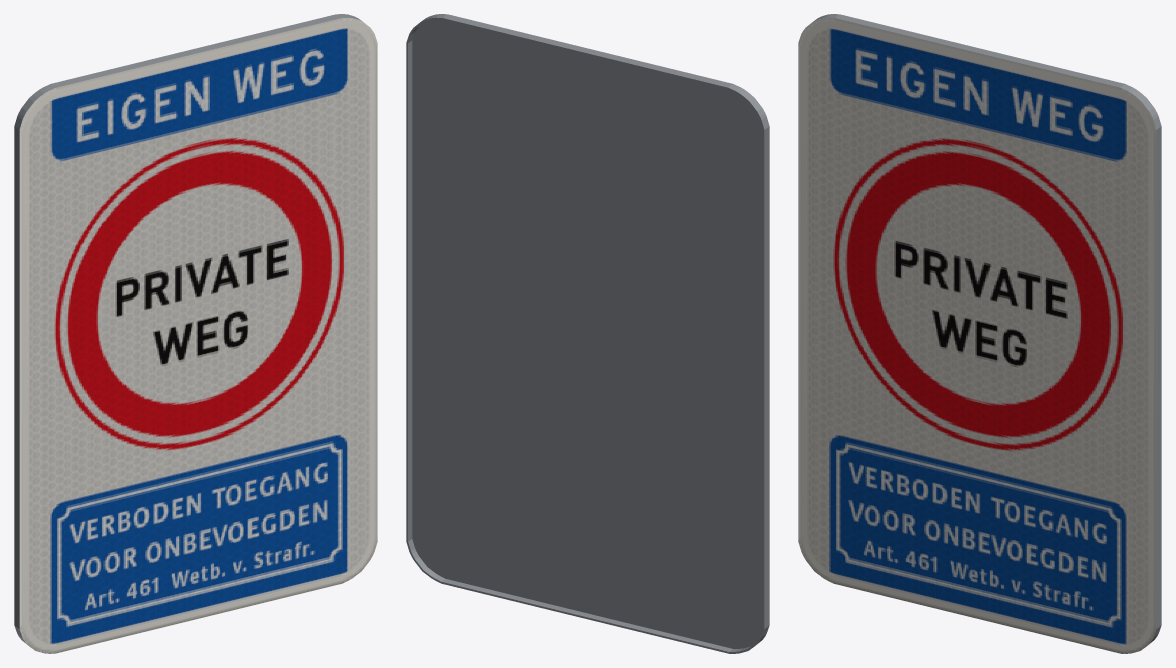
3 views of the same model, side by side, from view 1: azimuth 30°, elevation 25°; view 2: azimuth 150°, elevation 25°; view 3: azimuth 330°, elevation 25° (orthographic).
Visible parts, largest first — view 1: cat_7a6484ff59251681; view 2: cat_7a6484ff59251681; view 3: cat_7a6484ff59251681.
Part boxes in pixels (<box>): cat_7a6484ff59251681: <box>14,14,377,653</box>; cat_7a6484ff59251681: <box>406,14,769,653</box>; cat_7a6484ff59251681: <box>798,14,1161,653</box>.
Size of the model in its own units: 0.6 by 0.015 by 0.9061.
2 materials, 1 textured.
